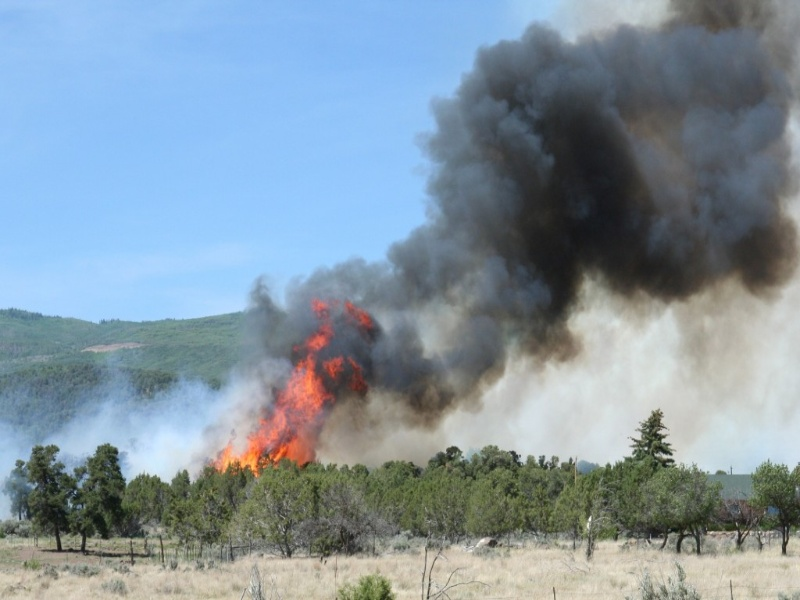smoke: (423, 21, 791, 285)
